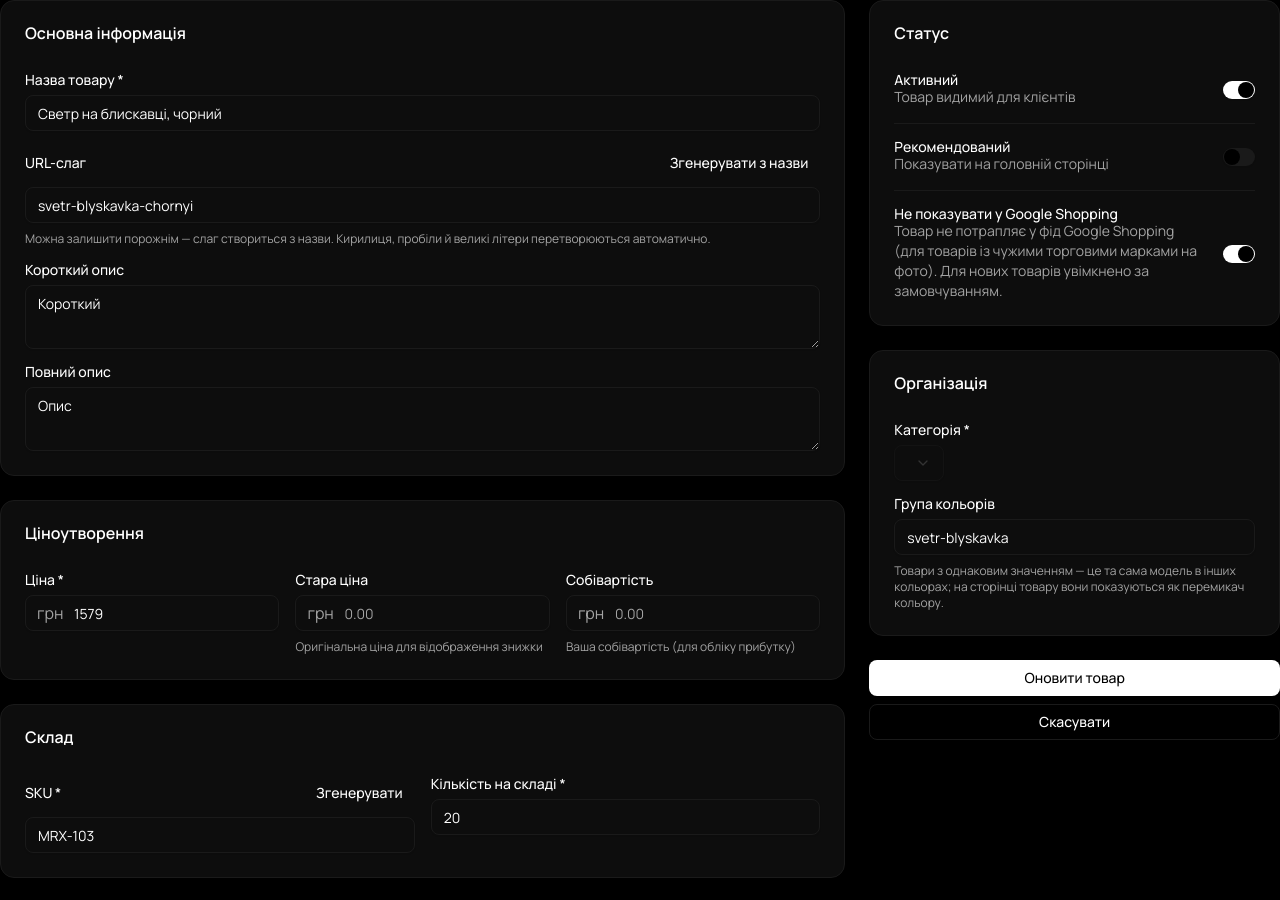
Scenario: ProductForm — client checks match the server's › «Собівартість» = 0 is stopped in the form with «Собівартість має бути додатним числом»
In the number field labelled "Собівартість": (693, 613) [566,595,820,631], type "0"
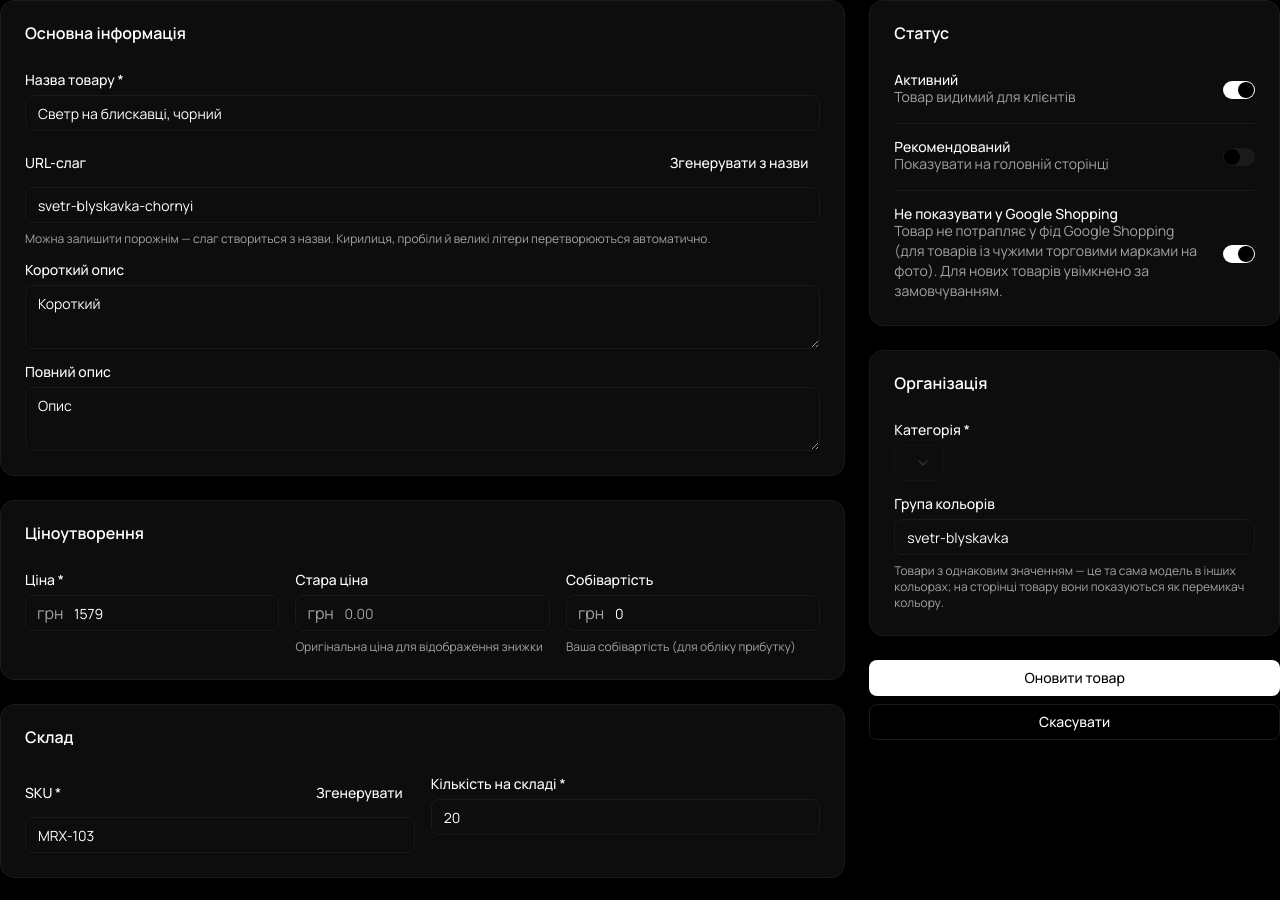
Click the button "Оновити товар": (1075, 678) [869,660,1279,696]
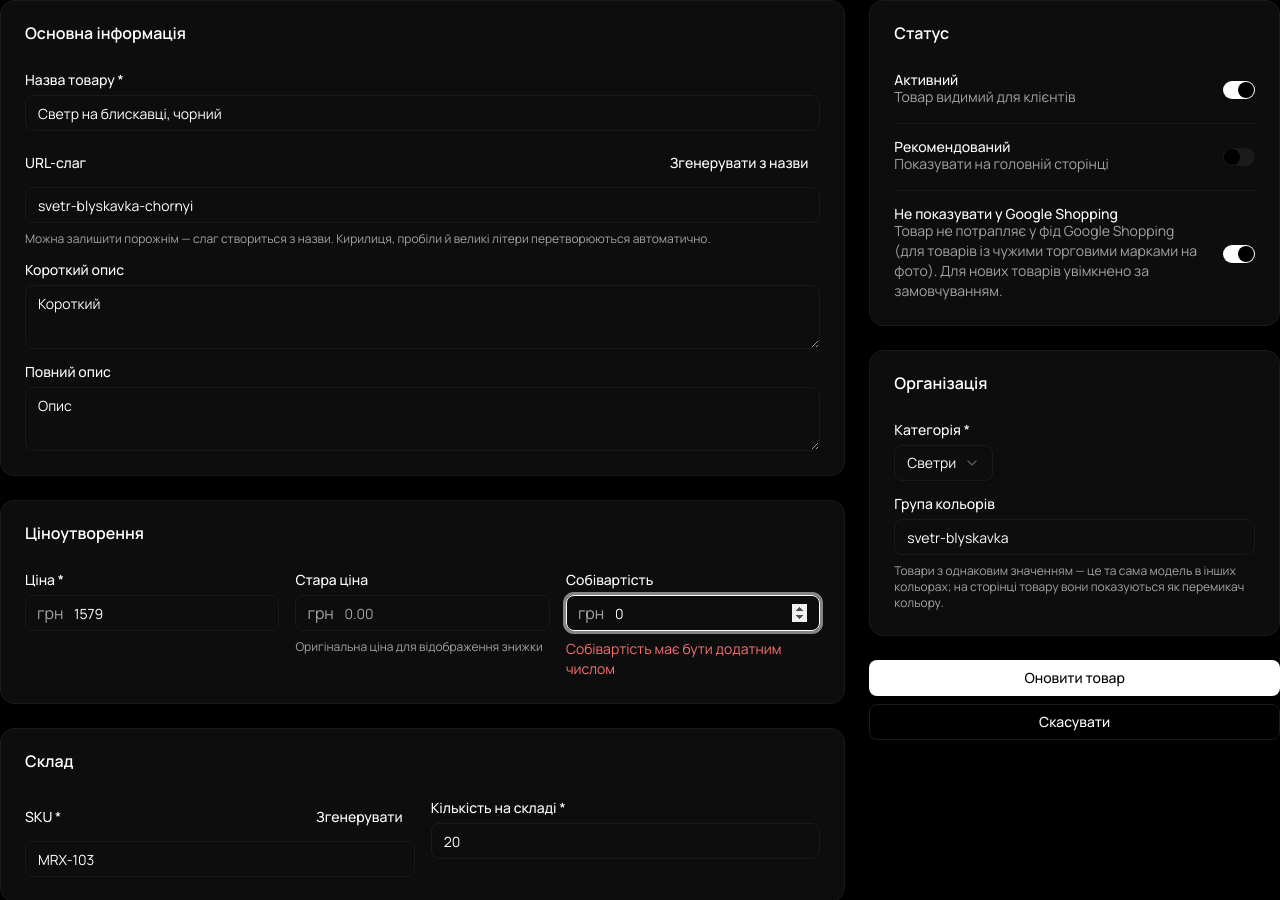
Check: the text "Собівартість має бути додатним числом" is shown, box [566,639,782,678]
